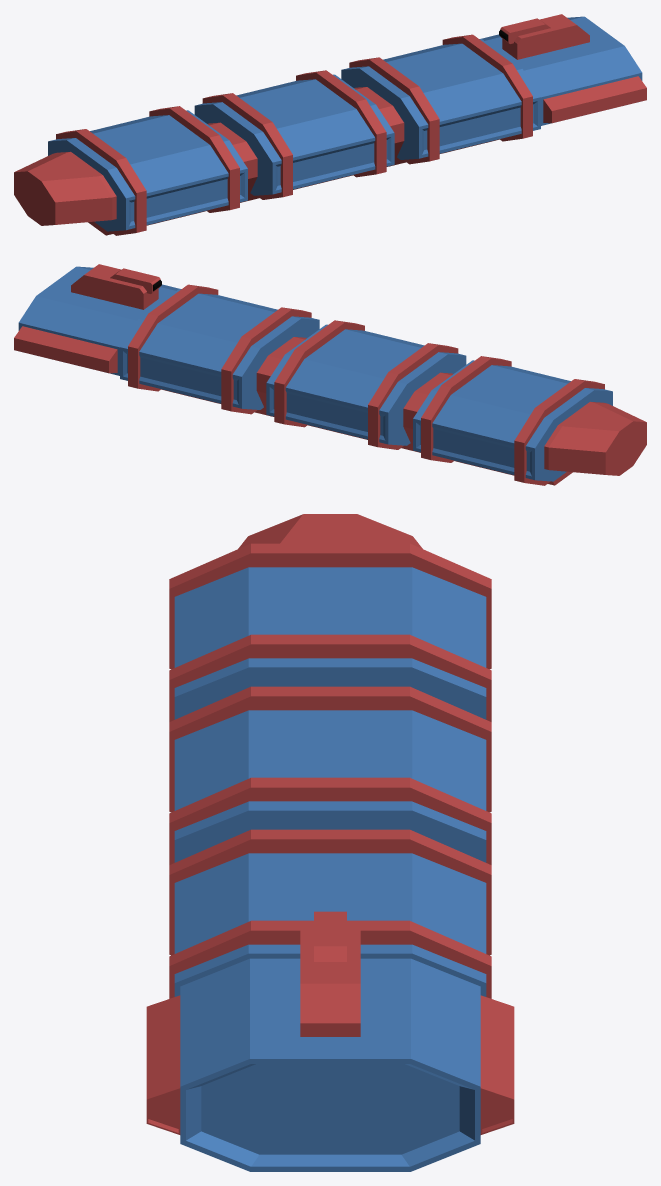
The model's file is 1_cargo_ship_1.FBX.
3 renders of one model, top to bottom at view 1: azimuth 30°, elevation 25°; view 2: azimuth 150°, elevation 25°; view 3: azimuth 270°, elevation 25°, orthographic. The views are drawn at different scales.
Parts seen in each view (by area): view 1: Object003; view 2: Object003; view 3: Object003.
Part boxes in pixels (bbox=[...]): Object003: bbox=[14, 14, 646, 235]; Object003: bbox=[14, 264, 646, 485]; Object003: bbox=[146, 514, 514, 1171].
Size of the model in its own units: 187 by 29.9 by 52.17.
Materials: 1 (1 with a texture image).
